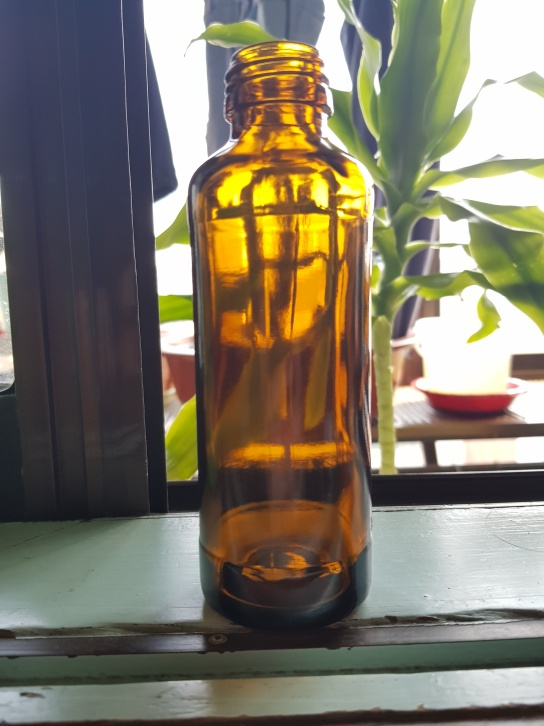Glass: (193, 39, 373, 642)
